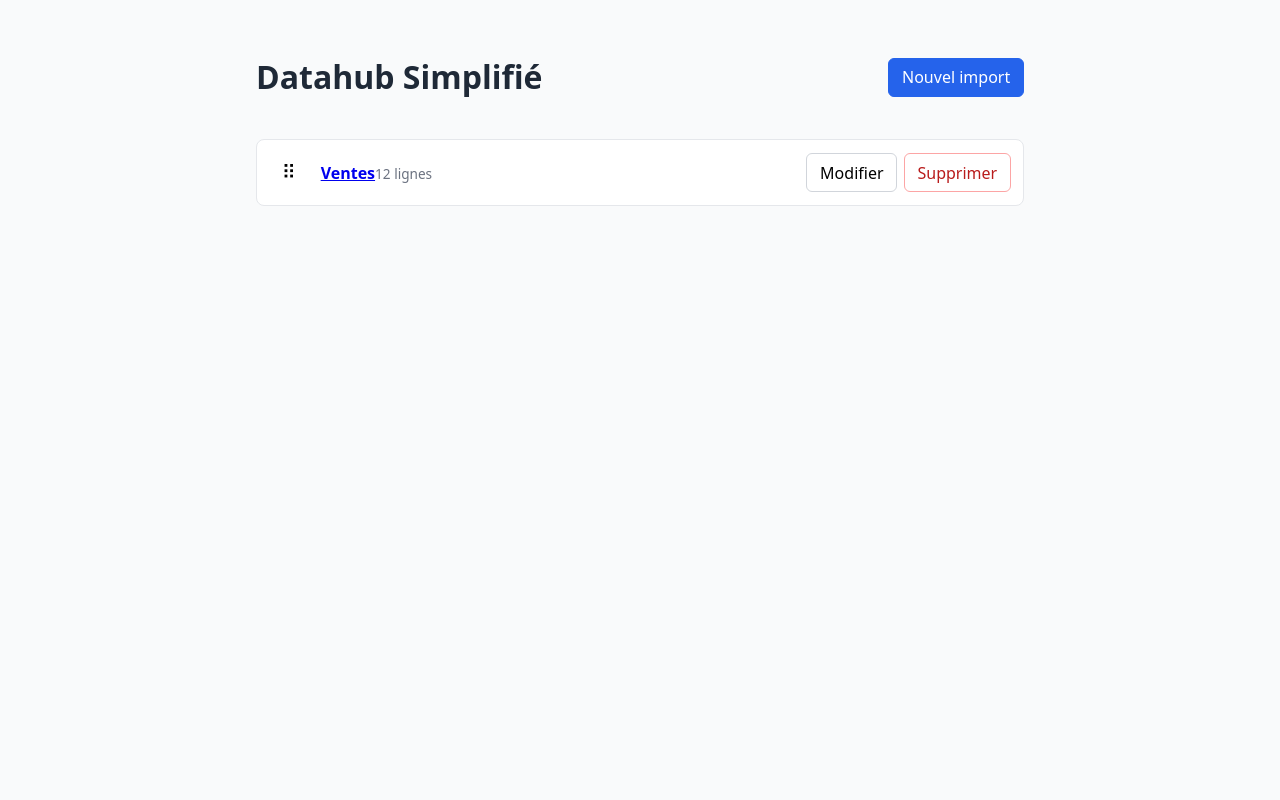
Scenario: HomePage › edits an import with prefilled values
This screenshot has width=1280, height=800.
Click the button with aria-label "Modifier Ventes" at (852, 173), box top-left (806, 153), bottom-right (897, 192)
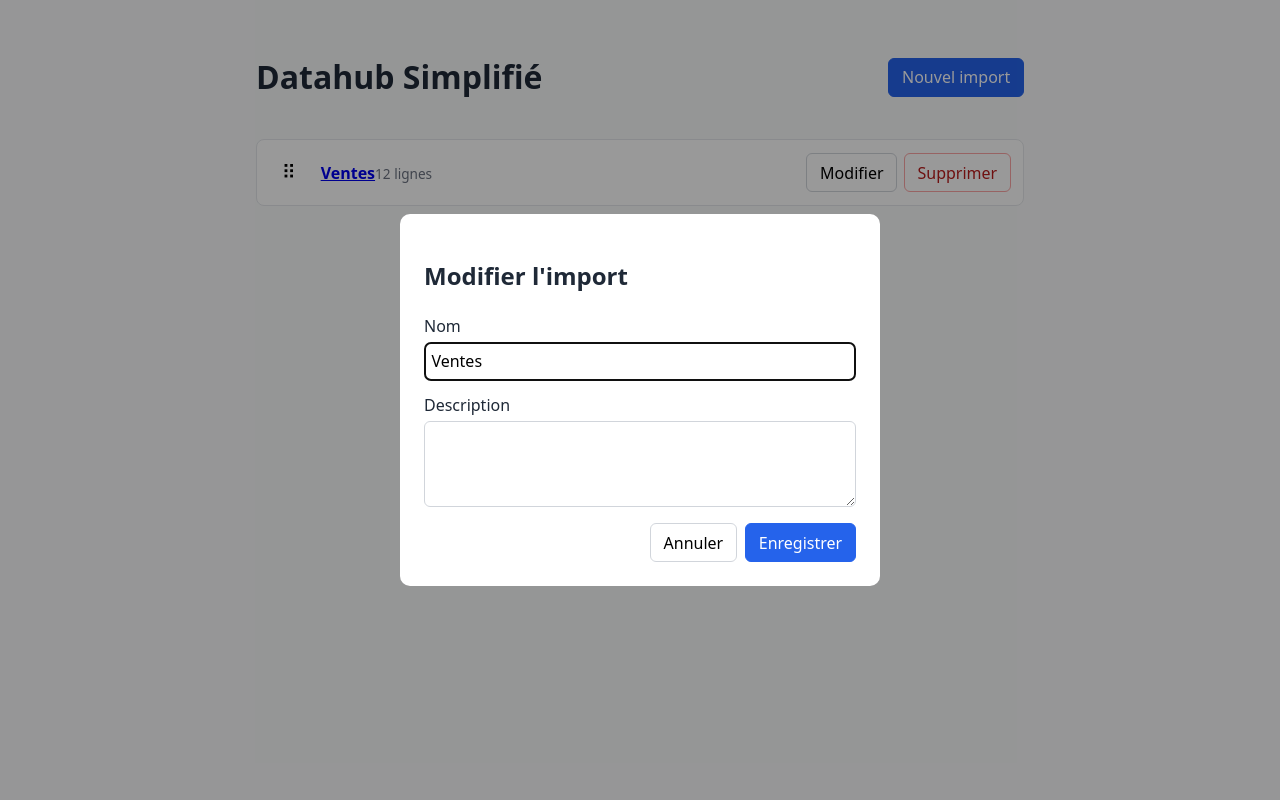
Check: the field labelled "Nom" holds "Ventes"
Replace the text in the field labelled "Nom" with "Ventes 2" at (640, 361), box top-left (424, 342), bottom-right (856, 380)
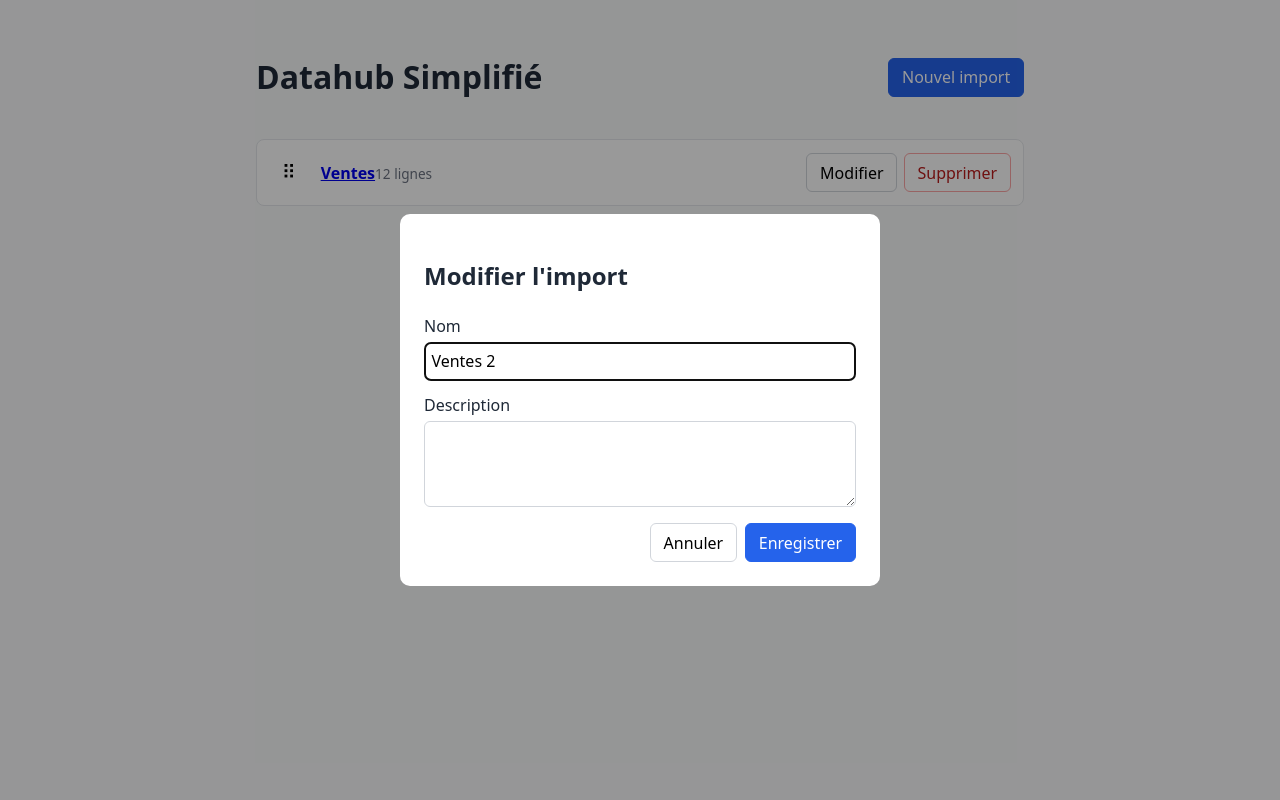
Click the button "Enregistrer" at (800, 543), box top-left (745, 523), bottom-right (856, 562)
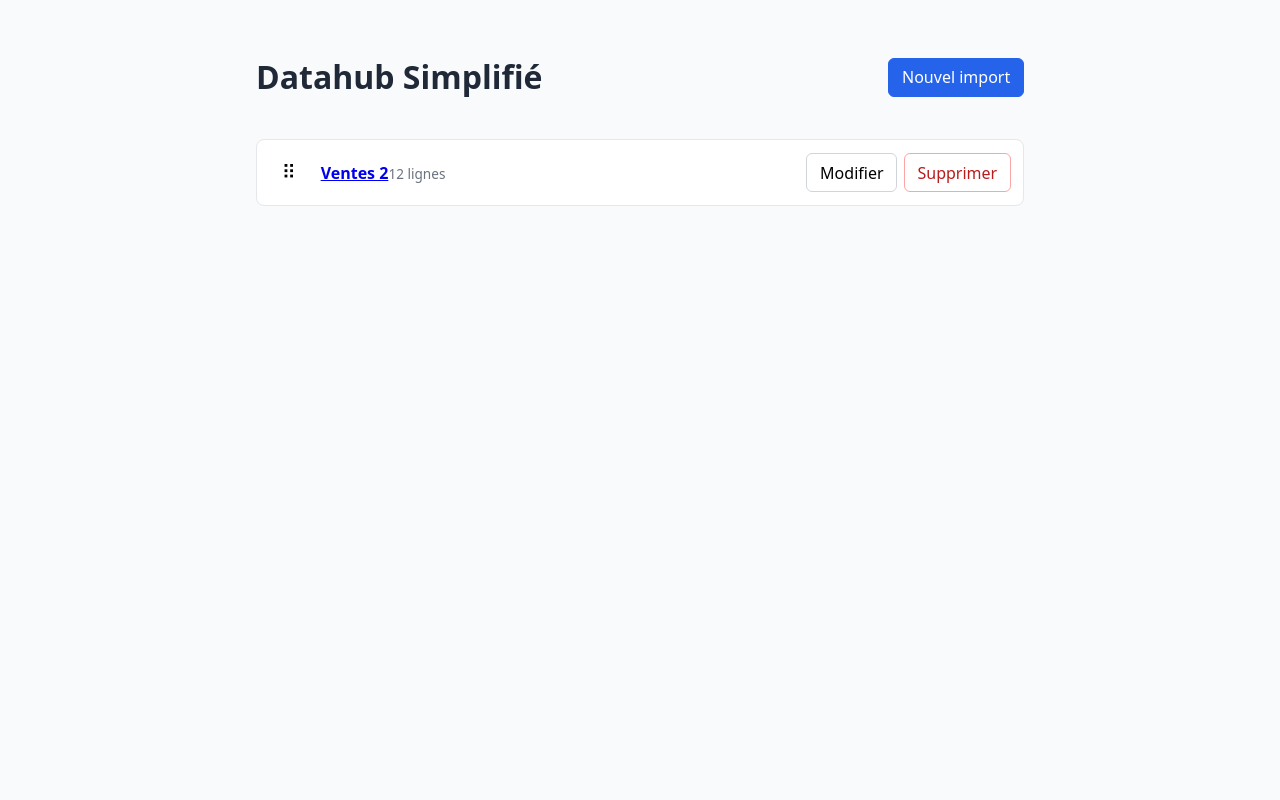
Check: the link "Ventes 2" is shown, box top-left (321, 162), bottom-right (388, 184)
